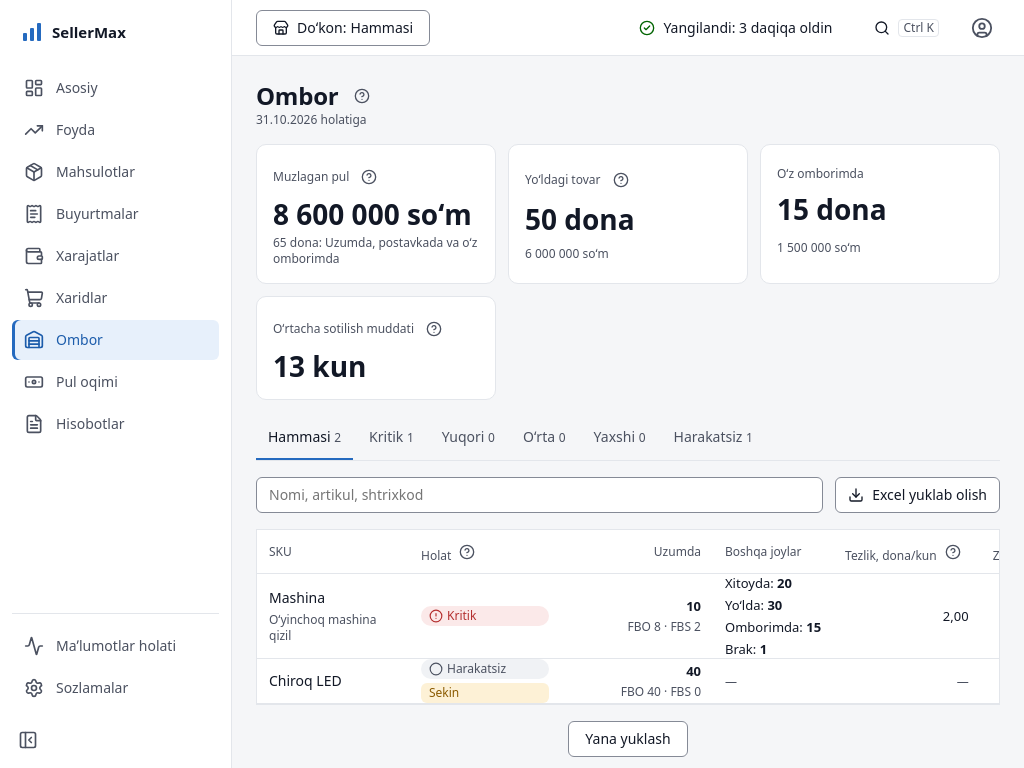
ombor jadvali › yana yuklash: keyingi sahifa kursor bilan
Click the button "Yana yuklash".
click(628, 739)  # box [568,721,688,757]
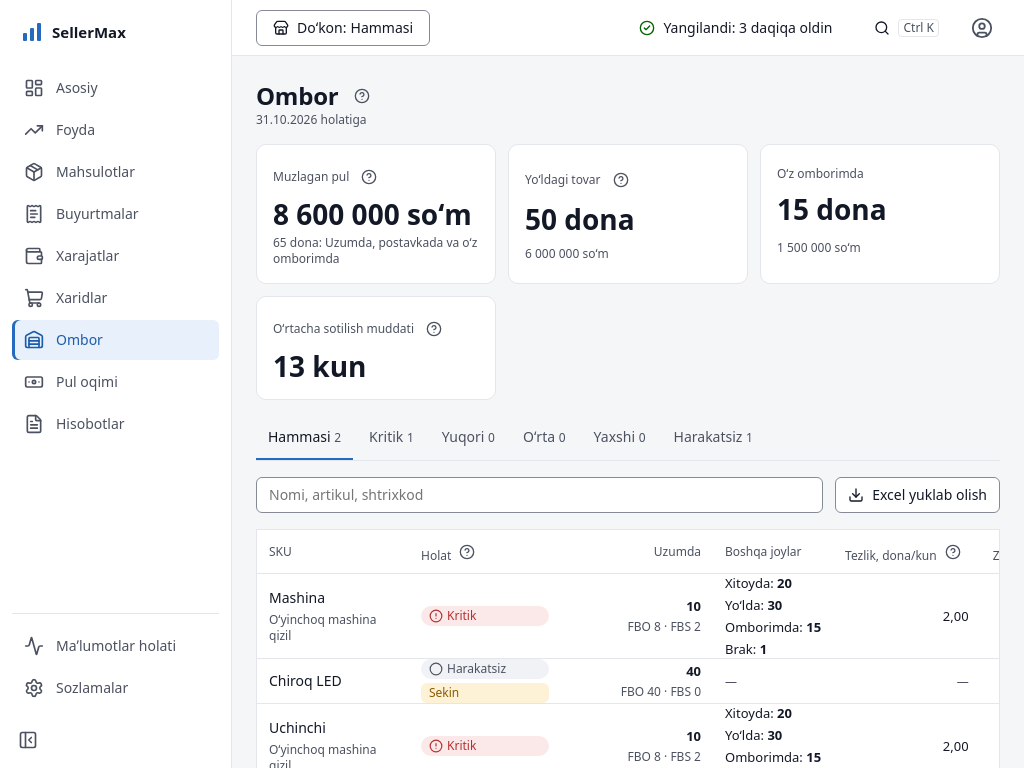
Now the link "Uchinchi" is shown, box [269,718,326,737]
